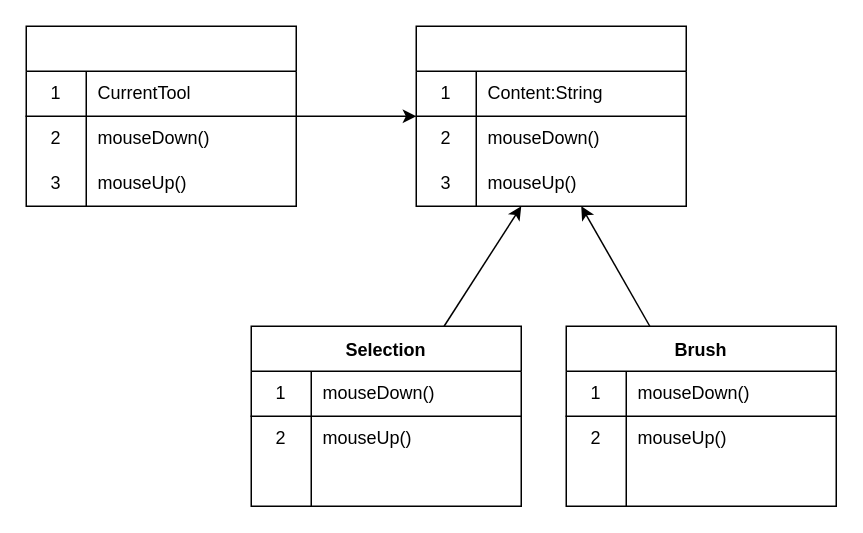
Image size: 863x533. Some labels were removed from this diagram. Here are the shapes that lost their labels. From the top down, the box of each, then its label:
(25, 25, 296, 206): Canvas
(415, 25, 686, 206): Tool
